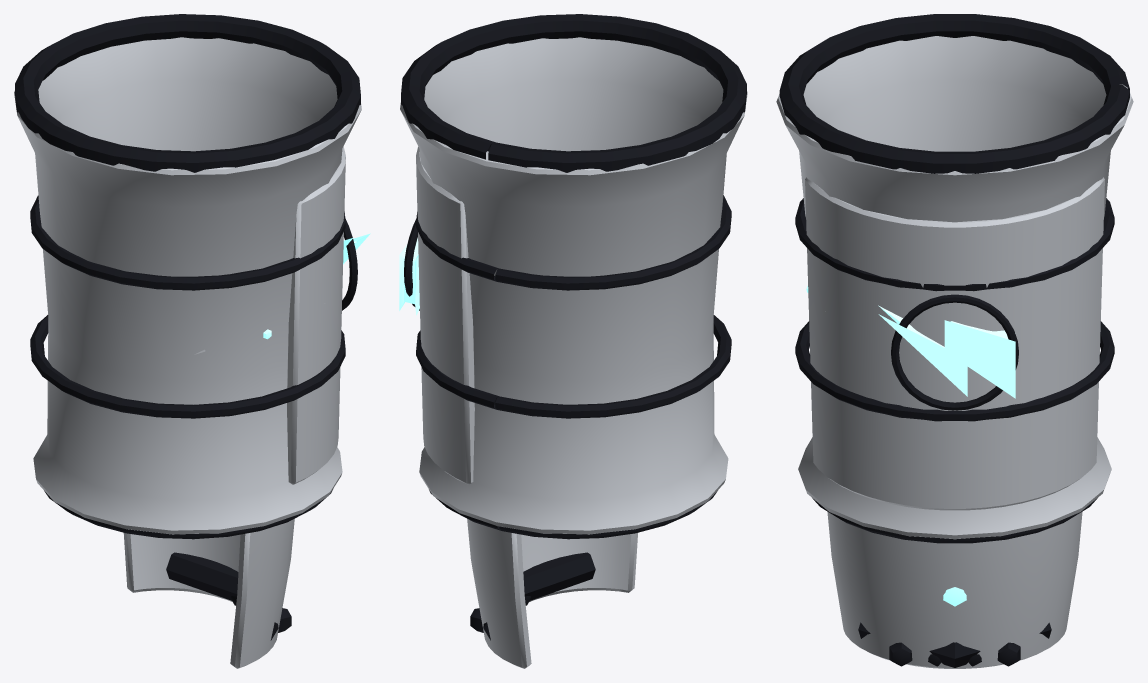
File: esc_ashen_apocalypse_gloves.glb
3 renders of one model, left to right at view 1: azimuth 30°, elevation 25°; view 2: azimuth 150°, elevation 25°; view 3: azimuth 270°, elevation 25°, orthographic.
Visible parts, largest first — view 1: esc_ashen_apocalypse_gloves, AT_hand_L; view 2: esc_ashen_apocalypse_gloves, AT_hand_L; view 3: esc_ashen_apocalypse_gloves, AT_hand_L.
Part boxes in pixels (x1,y1,x2,y2): esc_ashen_apocalypse_gloves: (14,14,370,539); AT_hand_L: (123,519,294,668); esc_ashen_apocalypse_gloves: (399,14,747,539); AT_hand_L: (467,518,637,668); esc_ashen_apocalypse_gloves: (776,14,1133,543); AT_hand_L: (827,511,1082,668).
Size of the model in its own units: 0.1971 by 0.3408 by 0.2004.
